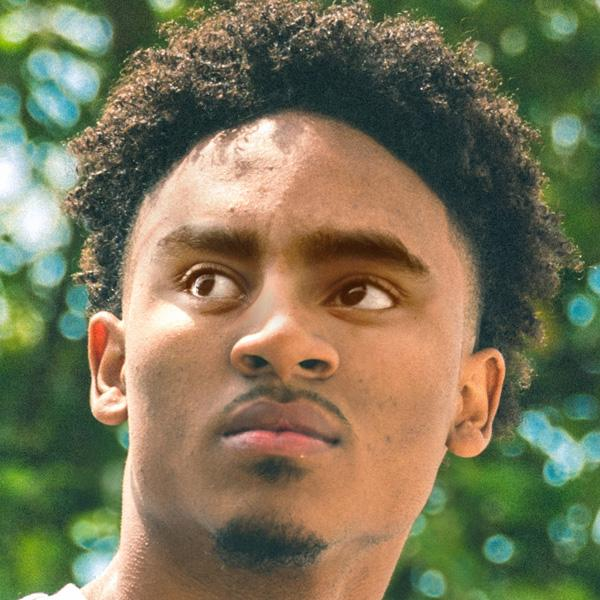Eyes: (310, 263, 409, 328), (167, 249, 255, 316)
